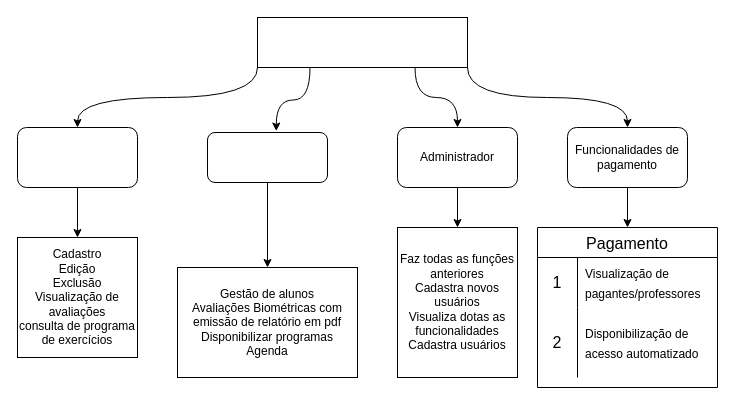
The diagram is 735 pixels wide and 405 high, and some of its shapes have lost their labels. Each missing label, with the centre of its shape:
Alunos: the point at 77,157
Funcionalidades do GymLab: the point at 362,42
Professorres: the point at 267,157
